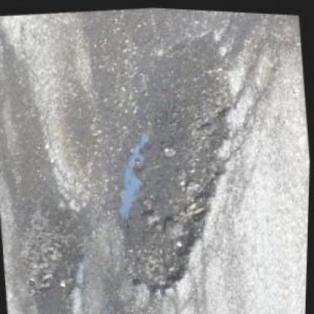Hueco: (97, 24, 257, 298), (11, 199, 95, 309)
